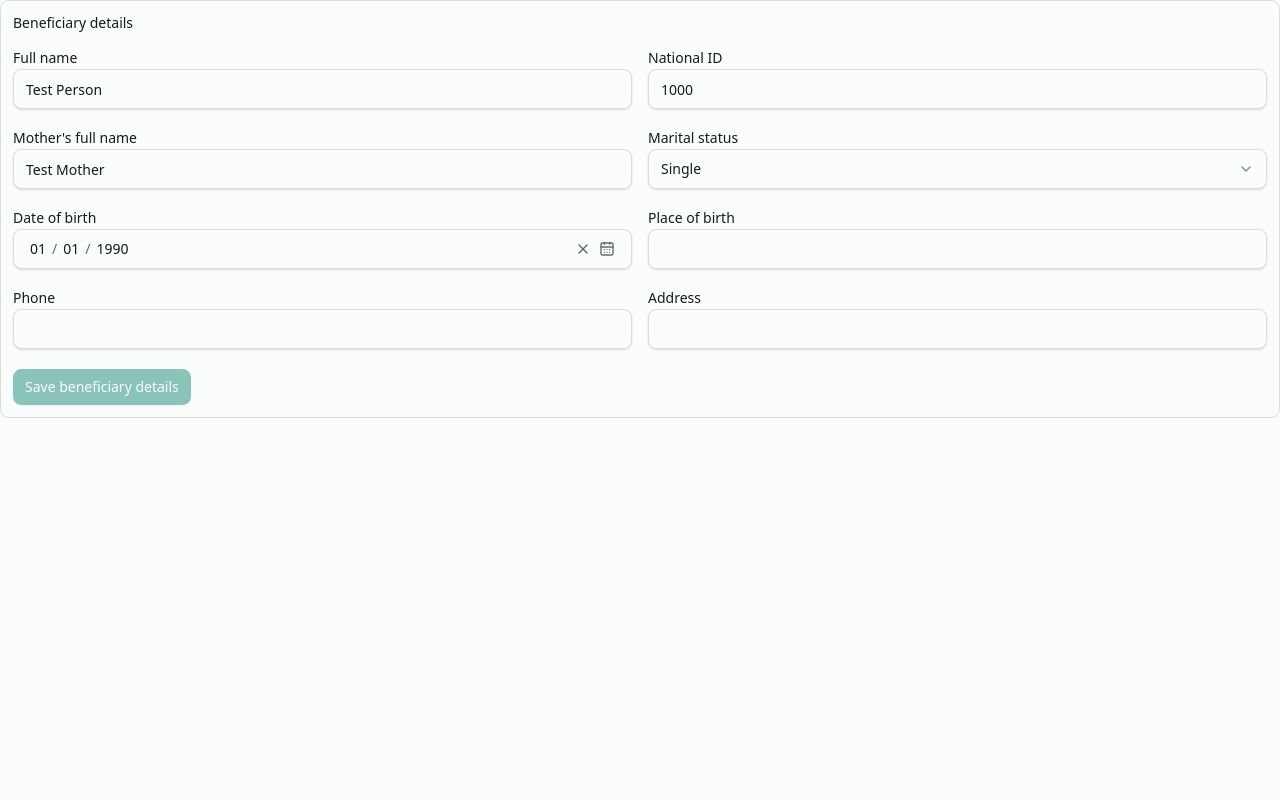
Test: ClientDetailsPanel › keeps save disabled until every spouse field is filled
The image size is (1280, 800).
Select "Married" in the dropdown labelled "Marital status" at (958, 169), box x1=648 y1=149 x2=1267 y2=189
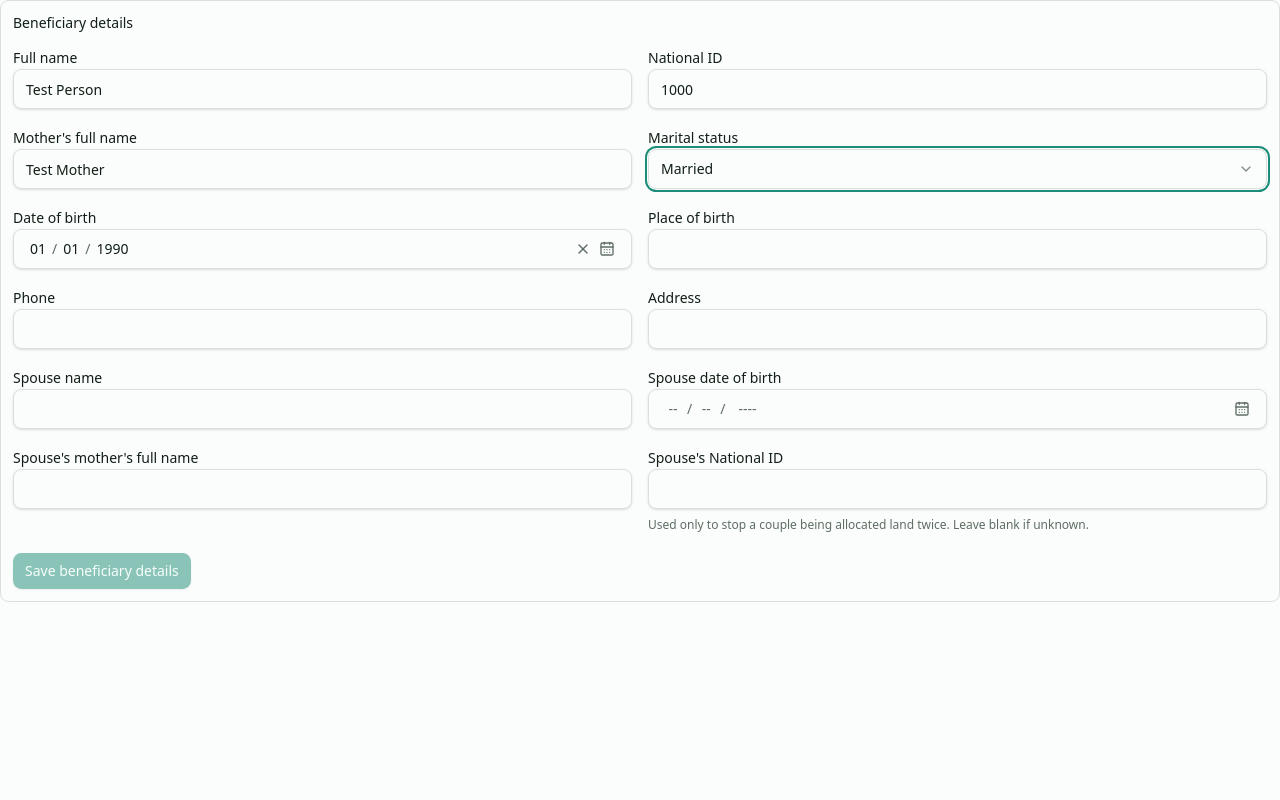
The server requires the three together — offering the save would only earn a 400.
Type "Partner" into the field labelled "Spouse name" at (322, 409), box x1=13 y1=389 x2=632 y2=429
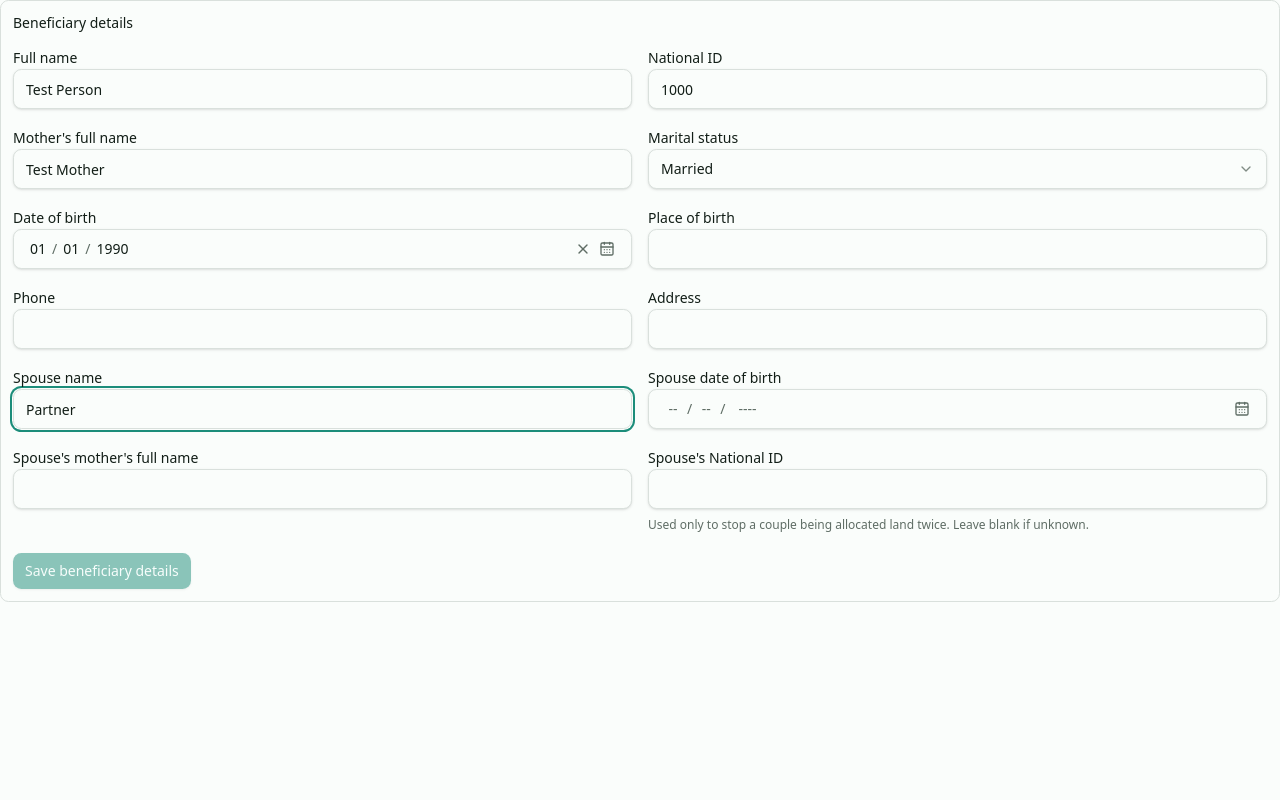
Expected: the button "Save beneficiary details" is disabled, x1=13 y1=553 x2=191 y2=589
Type "1992-02-02" into the field labelled "Spouse date of birth" at (673, 409), box x1=661 y1=399 x2=685 y2=419
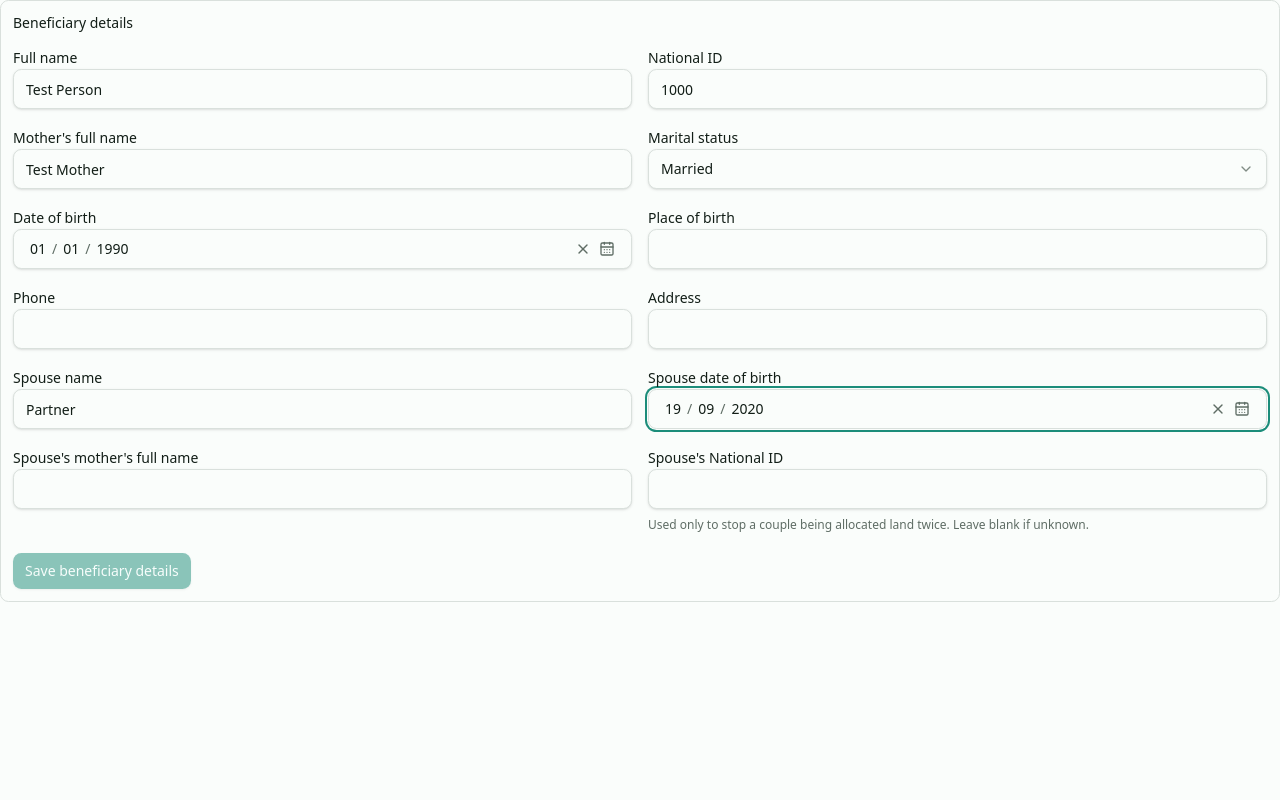
Expected: the button "Save beneficiary details" is disabled, x1=13 y1=553 x2=191 y2=589
Type "Partner Mother" into the field labelled "Spouse's mother's full name" at (322, 489), box x1=13 y1=469 x2=632 y2=509
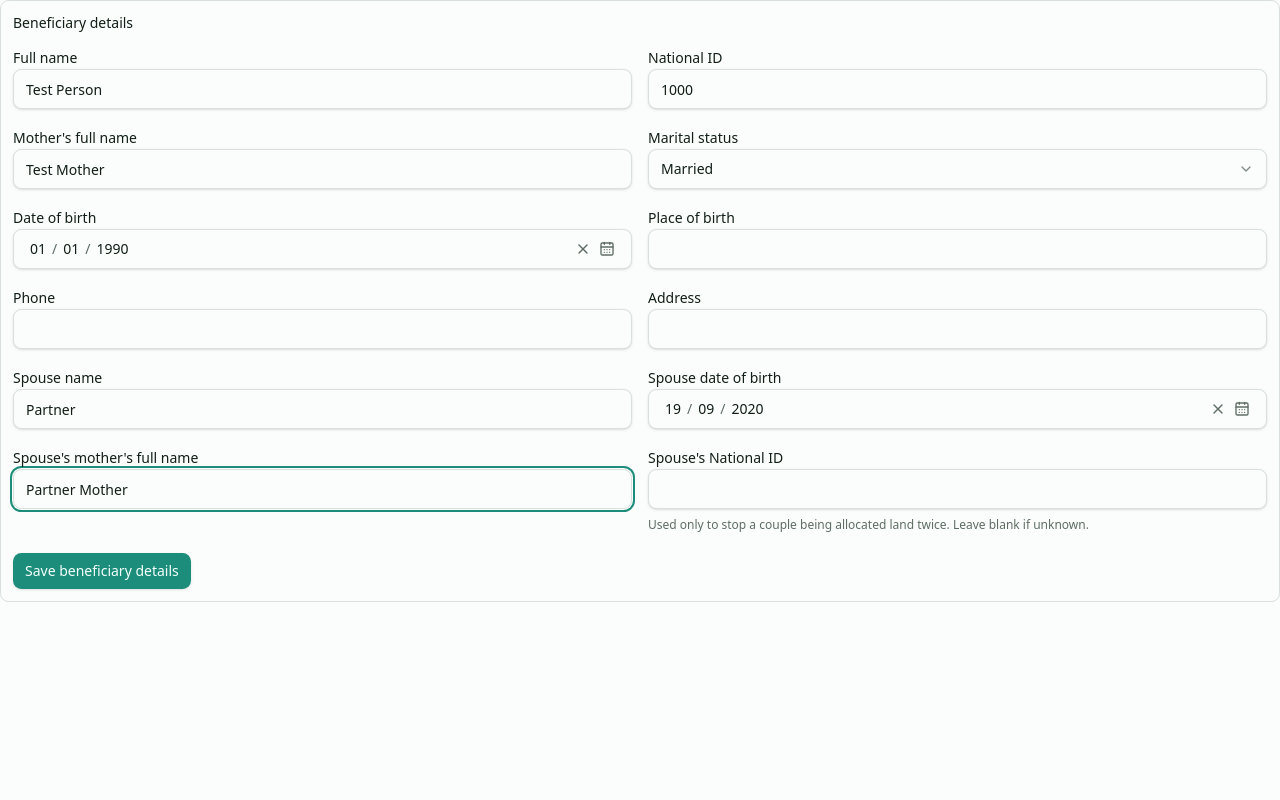
Expected: the button "Save beneficiary details" is enabled, x1=13 y1=553 x2=191 y2=589
